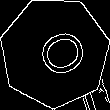O_SW: (23, 22, 86, 83)
